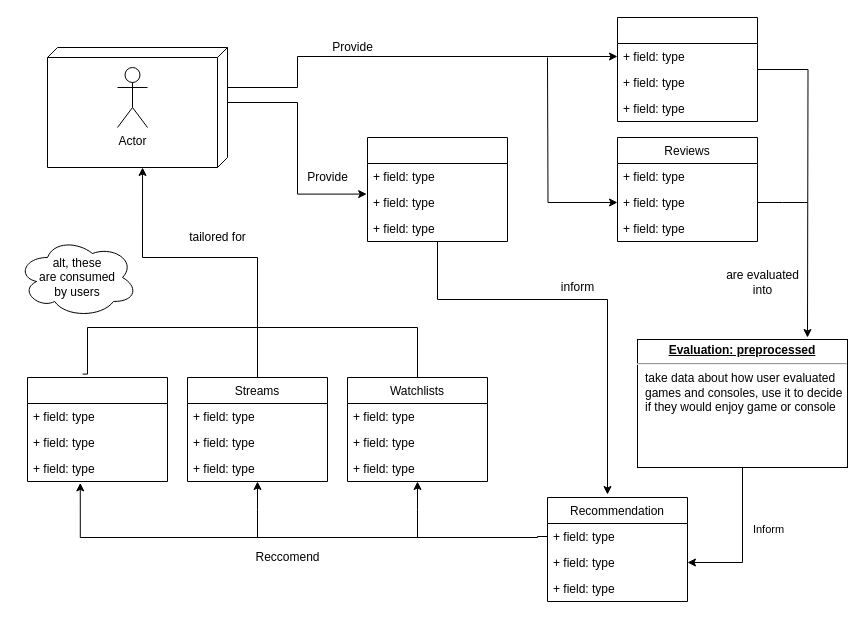
This 865x622 diagram has some shape labels left out. The box of each missing label's shape, as (x1, y1, x2, y2) in pixels:
News: (26, 376, 168, 482)
Preferences: (366, 136, 508, 242)
Ratings: (616, 16, 758, 122)
users: (46, 46, 228, 168)
